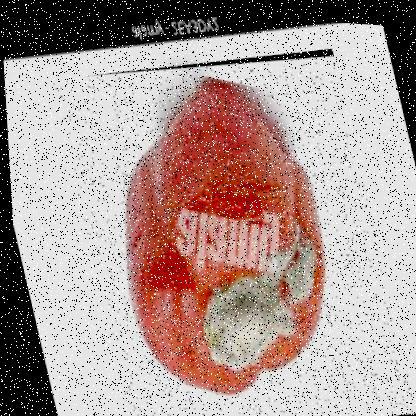capsicum_rotten: (47, 26, 415, 415)
